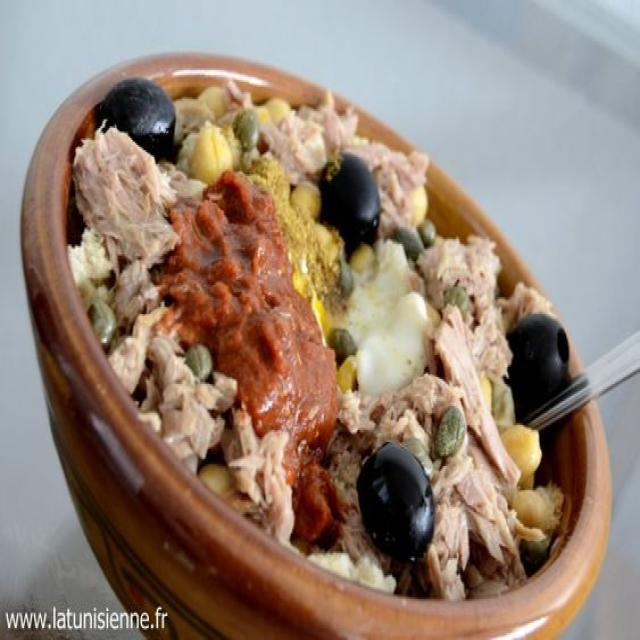Lablabi: (41, 54, 609, 638)
